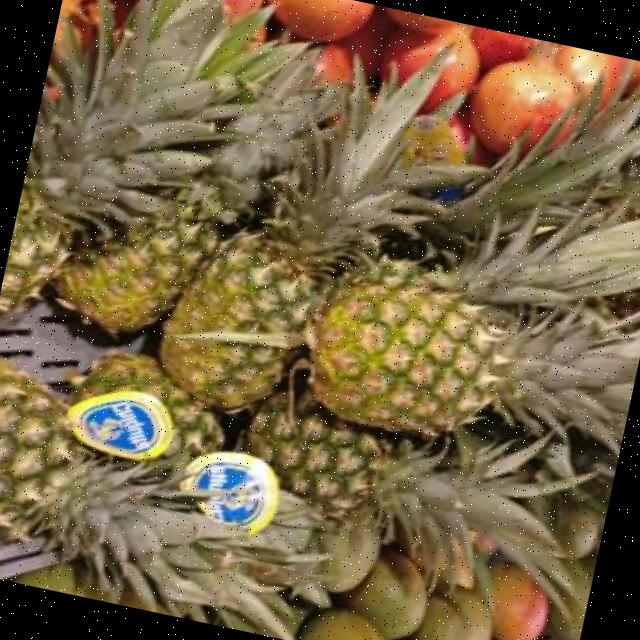pineapple: (159, 61, 437, 408), (0, 363, 318, 639), (0, 0, 243, 313), (56, 74, 320, 332), (246, 394, 577, 576), (307, 274, 640, 454), (68, 354, 224, 460)
